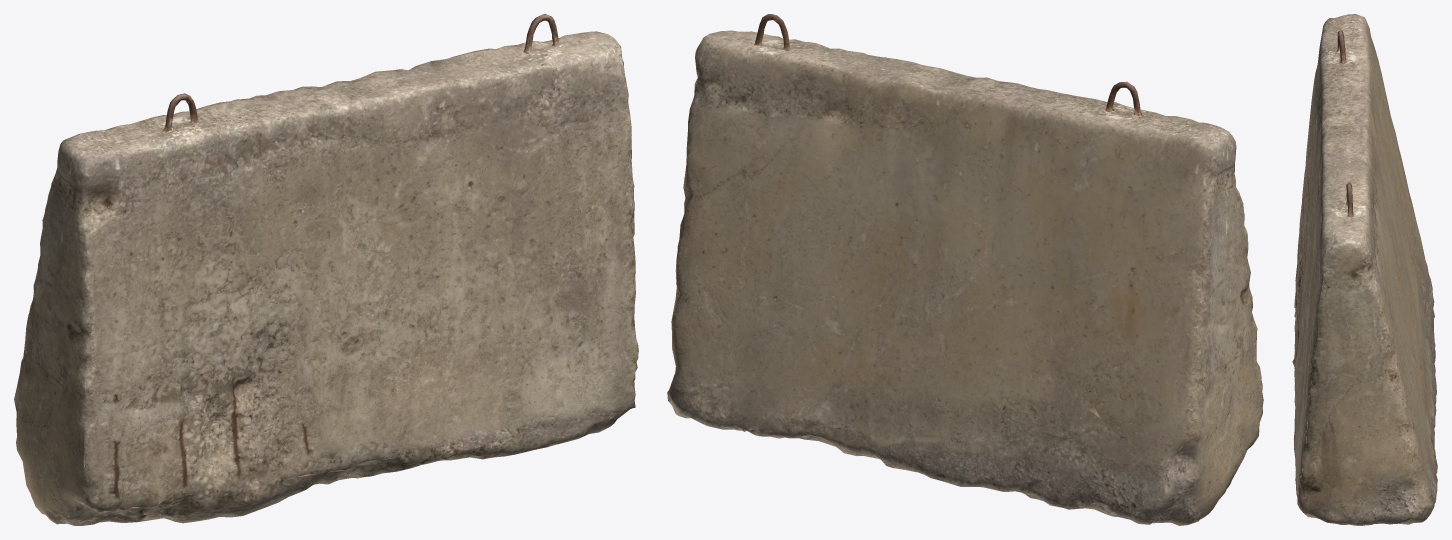
File: ph_barrier.glb
3 renders of one model, left to right at view 1: azimuth 30°, elevation 25°; view 2: azimuth 150°, elevation 25°; view 3: azimuth 270°, elevation 25°, orthographic. The views are drawn at different scales.
Visible parts, largest first — view 1: concrete_road_barrier_02; view 2: concrete_road_barrier_02; view 3: concrete_road_barrier_02.
Boxes of the visible parts, x1=… form: concrete_road_barrier_02: x1=14, y1=14, x2=638, y2=525; concrete_road_barrier_02: x1=667, y1=14, x2=1263, y2=525; concrete_road_barrier_02: x1=1292, y1=14, x2=1437, y2=525.
Size of the model in its own units: 1.57 by 1.11 by 0.4416.
1 material, 1 textured.
